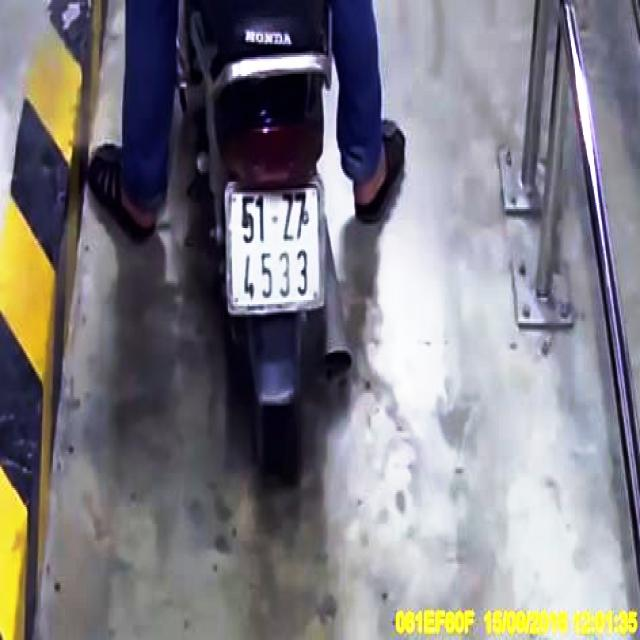license_plate: (230, 186, 322, 313)
